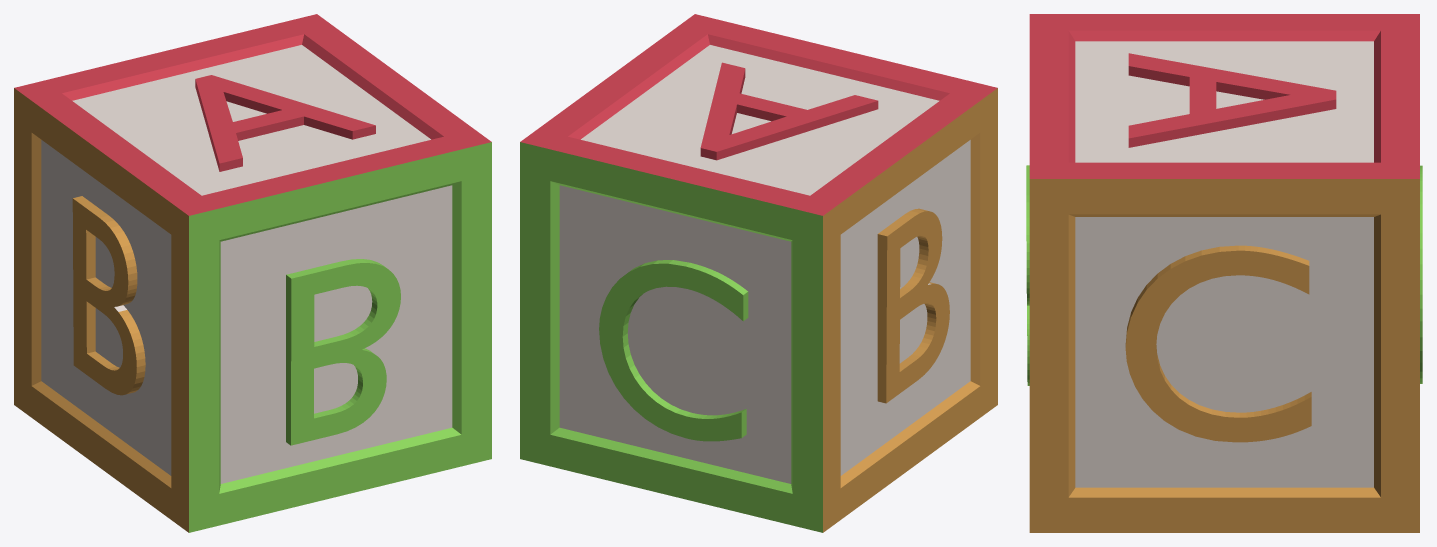
The model's file is ABCblock.fbx.
3 views of the same model, side by side, from view 1: azimuth 30°, elevation 25°; view 2: azimuth 150°, elevation 25°; view 3: azimuth 270°, elevation 25° (orthographic). The views are drawn at different scales.
Visible parts, largest first — view 1: Cube; view 2: Cube; view 3: Cube.
Boxes of the visible parts, x1=… form: Cube: x1=14, y1=14, x2=491, y2=532; Cube: x1=520, y1=14, x2=997, y2=532; Cube: x1=1026, y1=14, x2=1422, y2=532.
Bounding box in the file's own units: 0.9845 × 0.9771 × 0.9814.
